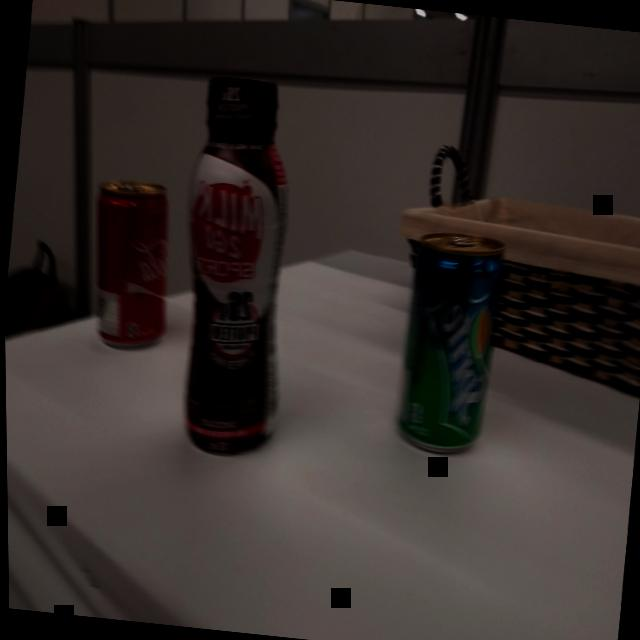chocolate_drink: (153, 69, 317, 468)
coke: (81, 174, 182, 356)
sprite: (384, 223, 511, 464)
